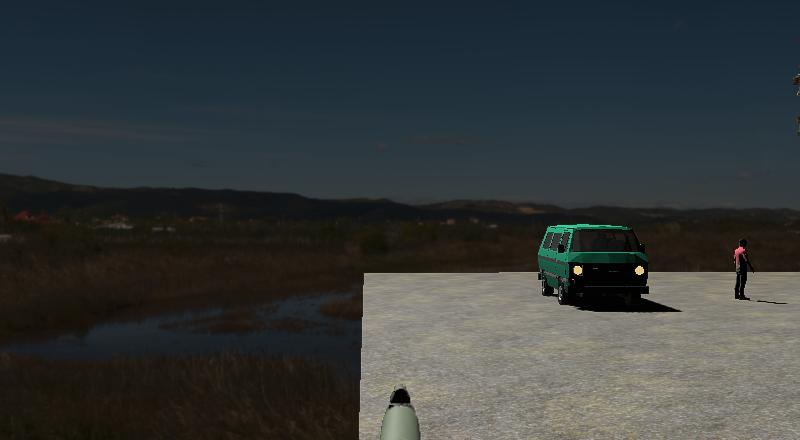Human: (734, 237, 753, 300)
car: (538, 222, 650, 308)
